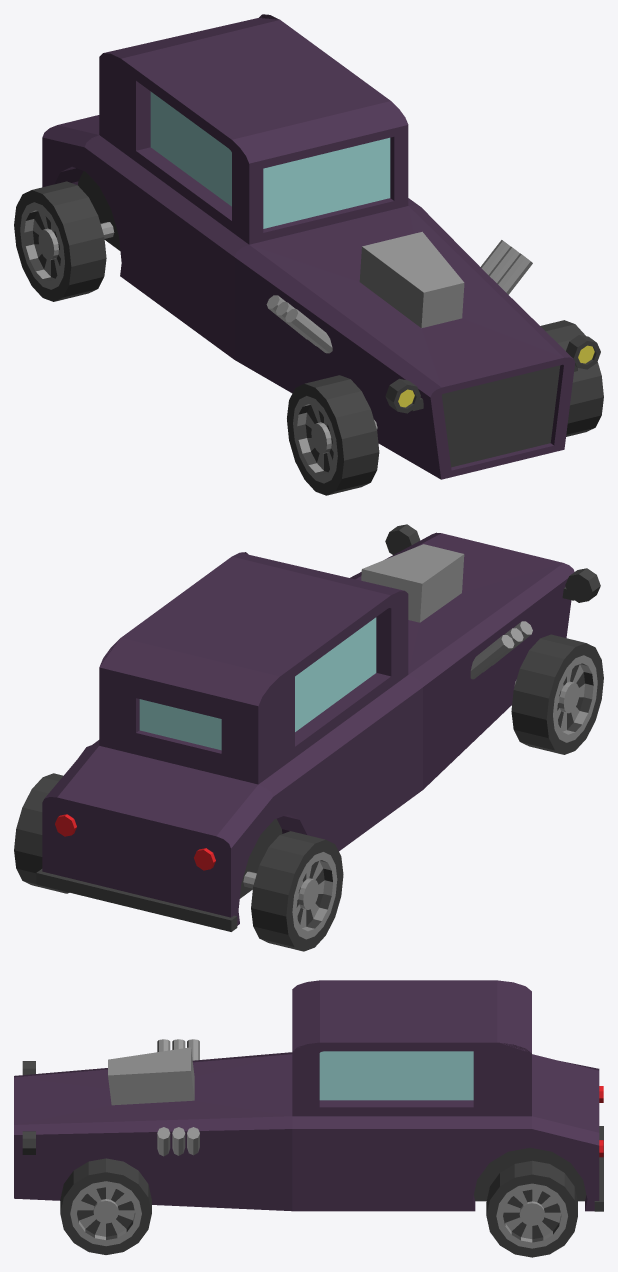
The model's file is HotKnife(Old).fbx.
3 renders of one model, top to bottom at view 1: azimuth 30°, elevation 25°; view 2: azimuth 150°, elevation 25°; view 3: azimuth 270°, elevation 25°, orthographic. The views are drawn at different scales.
Visible parts, largest first — view 1: Main, RRightTire, FRightTire, FLeftTire; view 2: Main, RRightTire, FRightTire, RLeftTire; view 3: Main, RLeftTire, FLeftTire.
Part boxes in pixels (x1=…): Main: x1=42, y1=14, x2=600, y2=479; RRightTire: x1=14, y1=181, x2=106, y2=301; FRightTire: x1=287, y1=375, x2=379, y2=495; FLeftTire: x1=540, y1=320, x2=603, y2=436; Main: x1=36, y1=524, x2=600, y2=931; RRightTire: x1=251, y1=831, x2=343, y2=951; FRightTire: x1=511, y1=634, x2=603, y2=754; RLeftTire: x1=14, y1=773, x2=69, y2=893; Main: x1=14, y1=980, x2=603, y2=1211; RLeftTire: x1=486, y1=1160, x2=577, y2=1257; FLeftTire: x1=60, y1=1158, x2=151, y2=1254.
Bounding box in the file's own units: 144 × 122 × 338.
